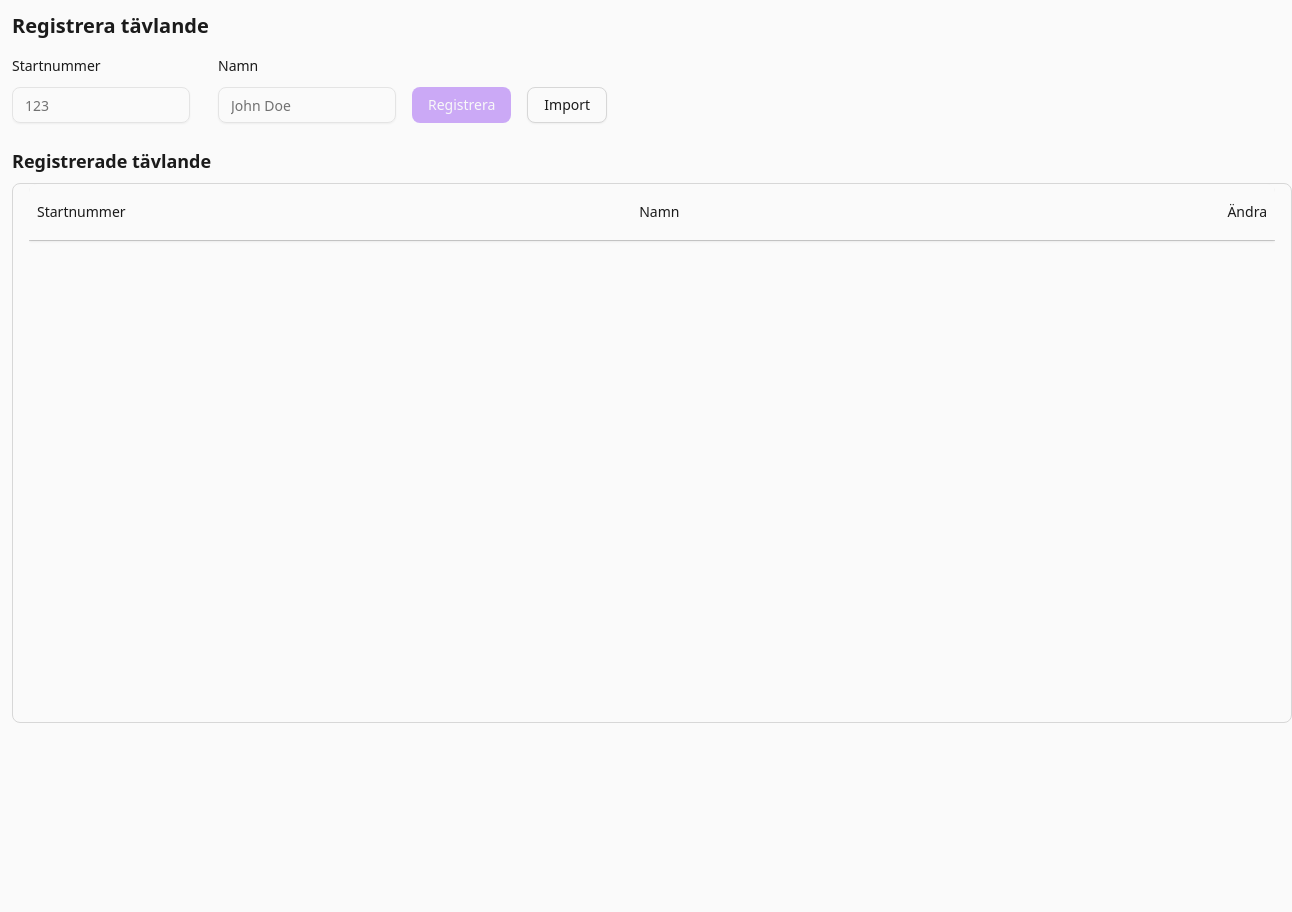
it: RegisteringStartTid › testar registrering med färre än tre siffror
Step 1. Type "13" into the field with placeholder "123" → (101, 105), box 12,87 -> 190,123
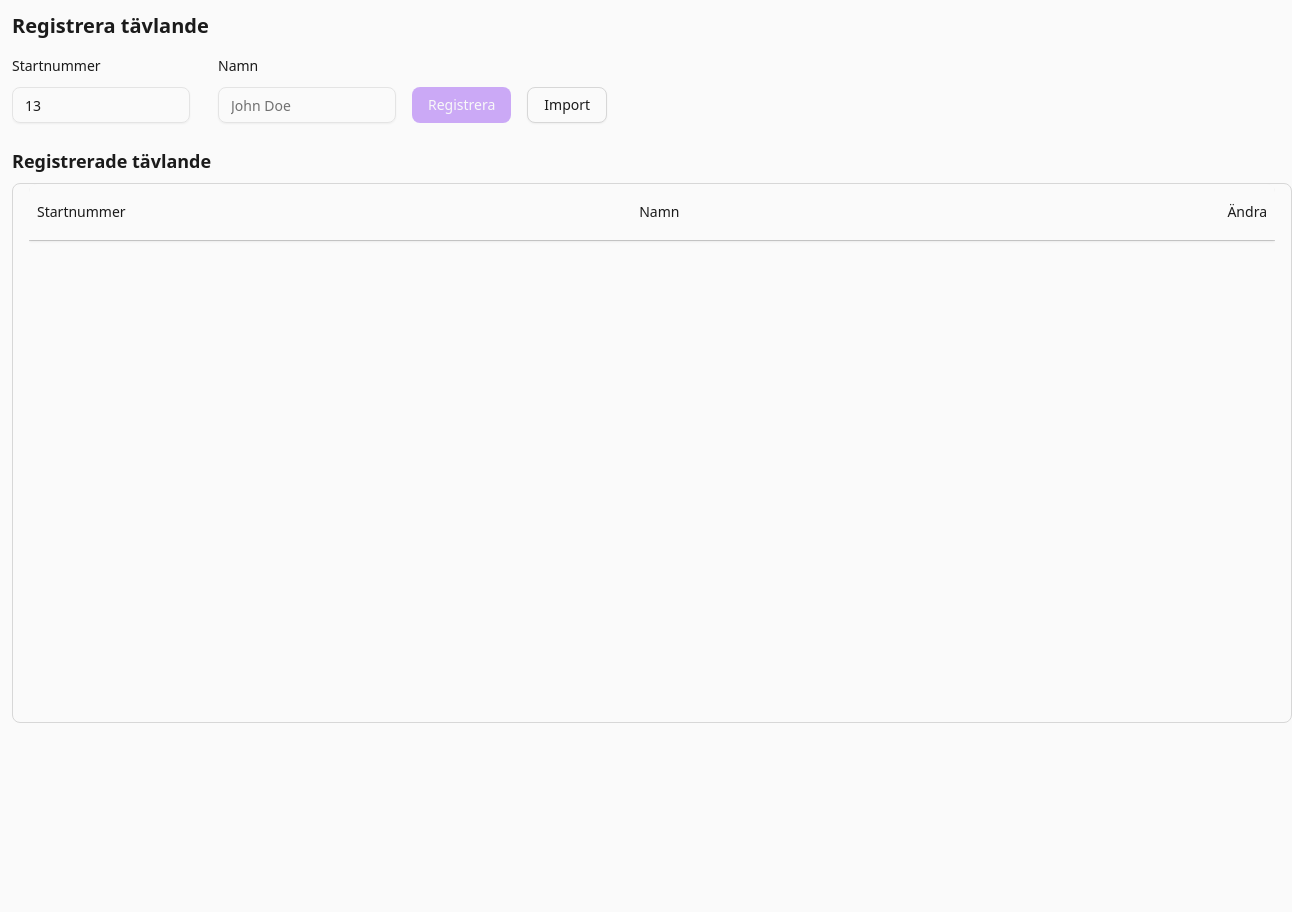
Step 2. Type "Team" into the field with placeholder "John Doe" → (307, 105), box 218,87 -> 396,123
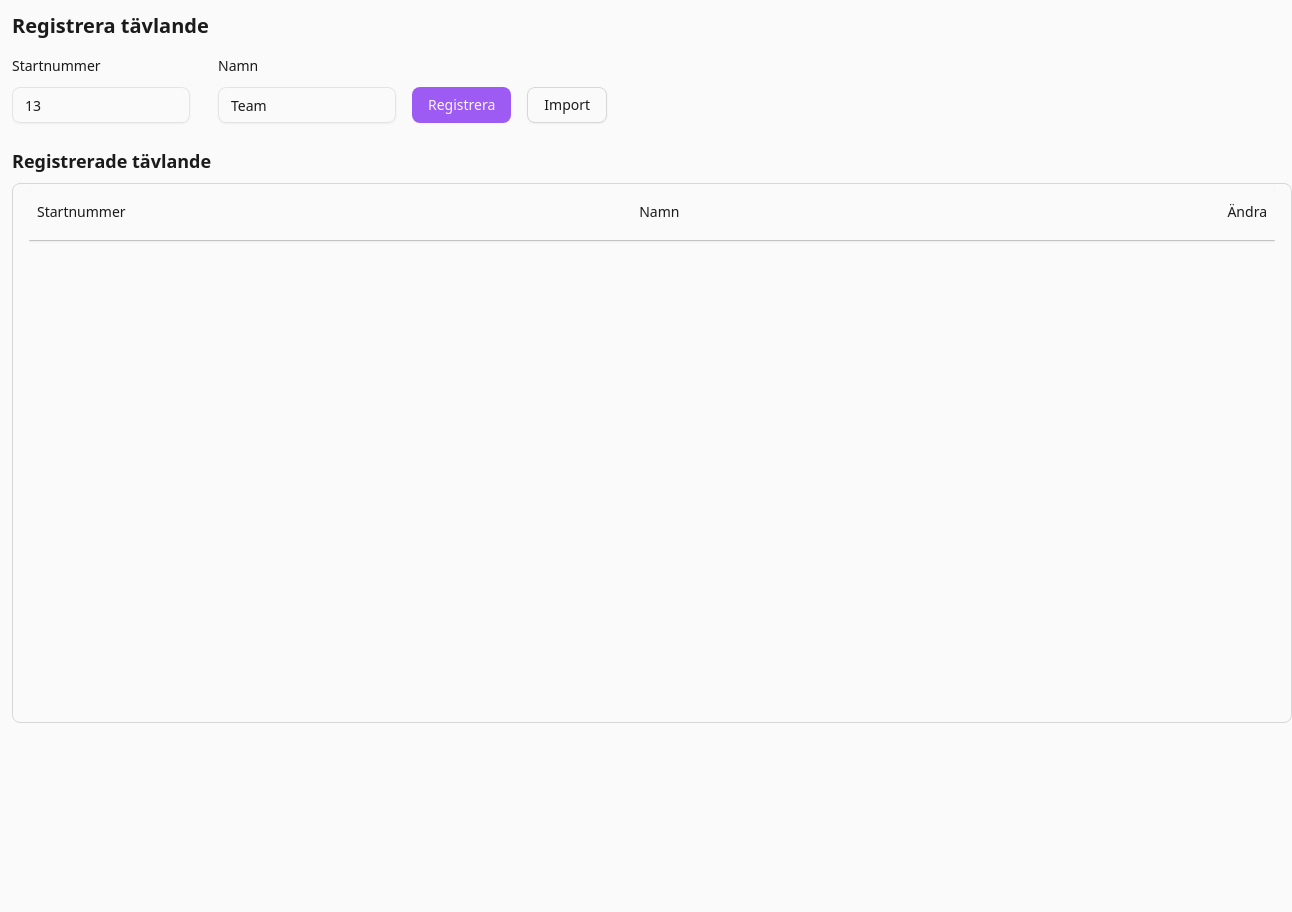
Step 3. Click the button "Registrera" → (462, 105), box 412,87 -> 511,123
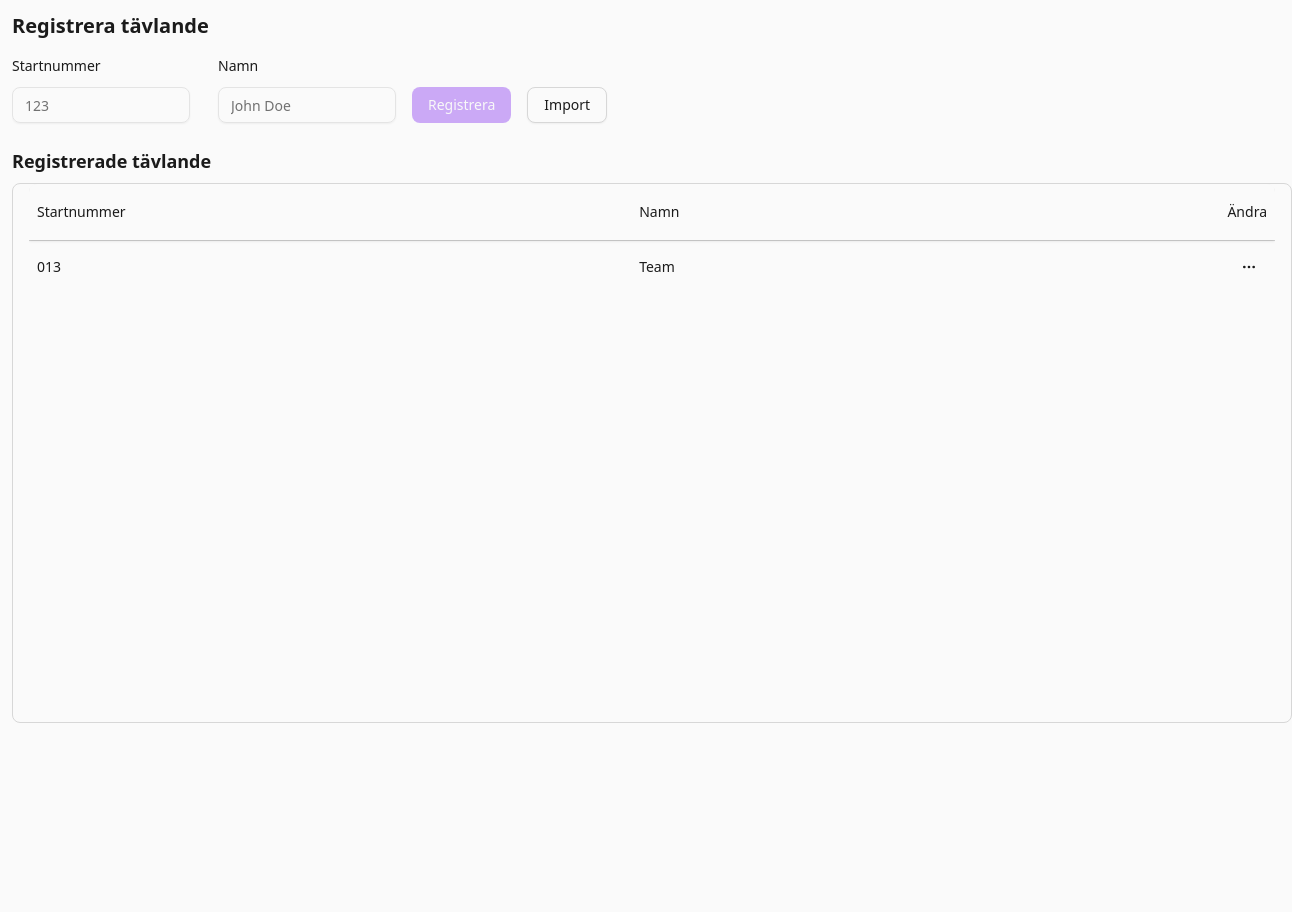
Expected: the text "013" is shown, 29,240 -> 631,293
